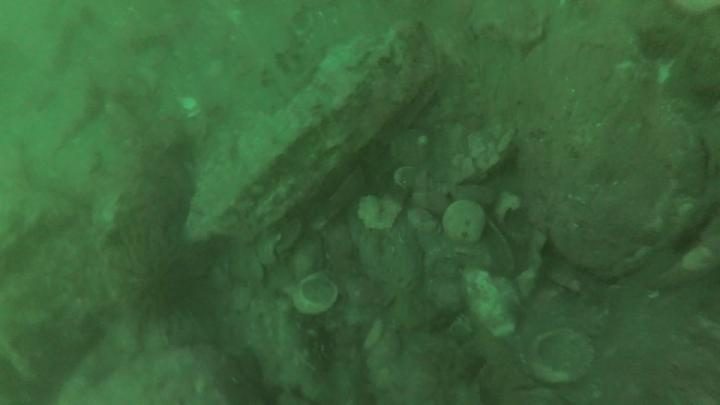echinus: (111, 243, 196, 321)
